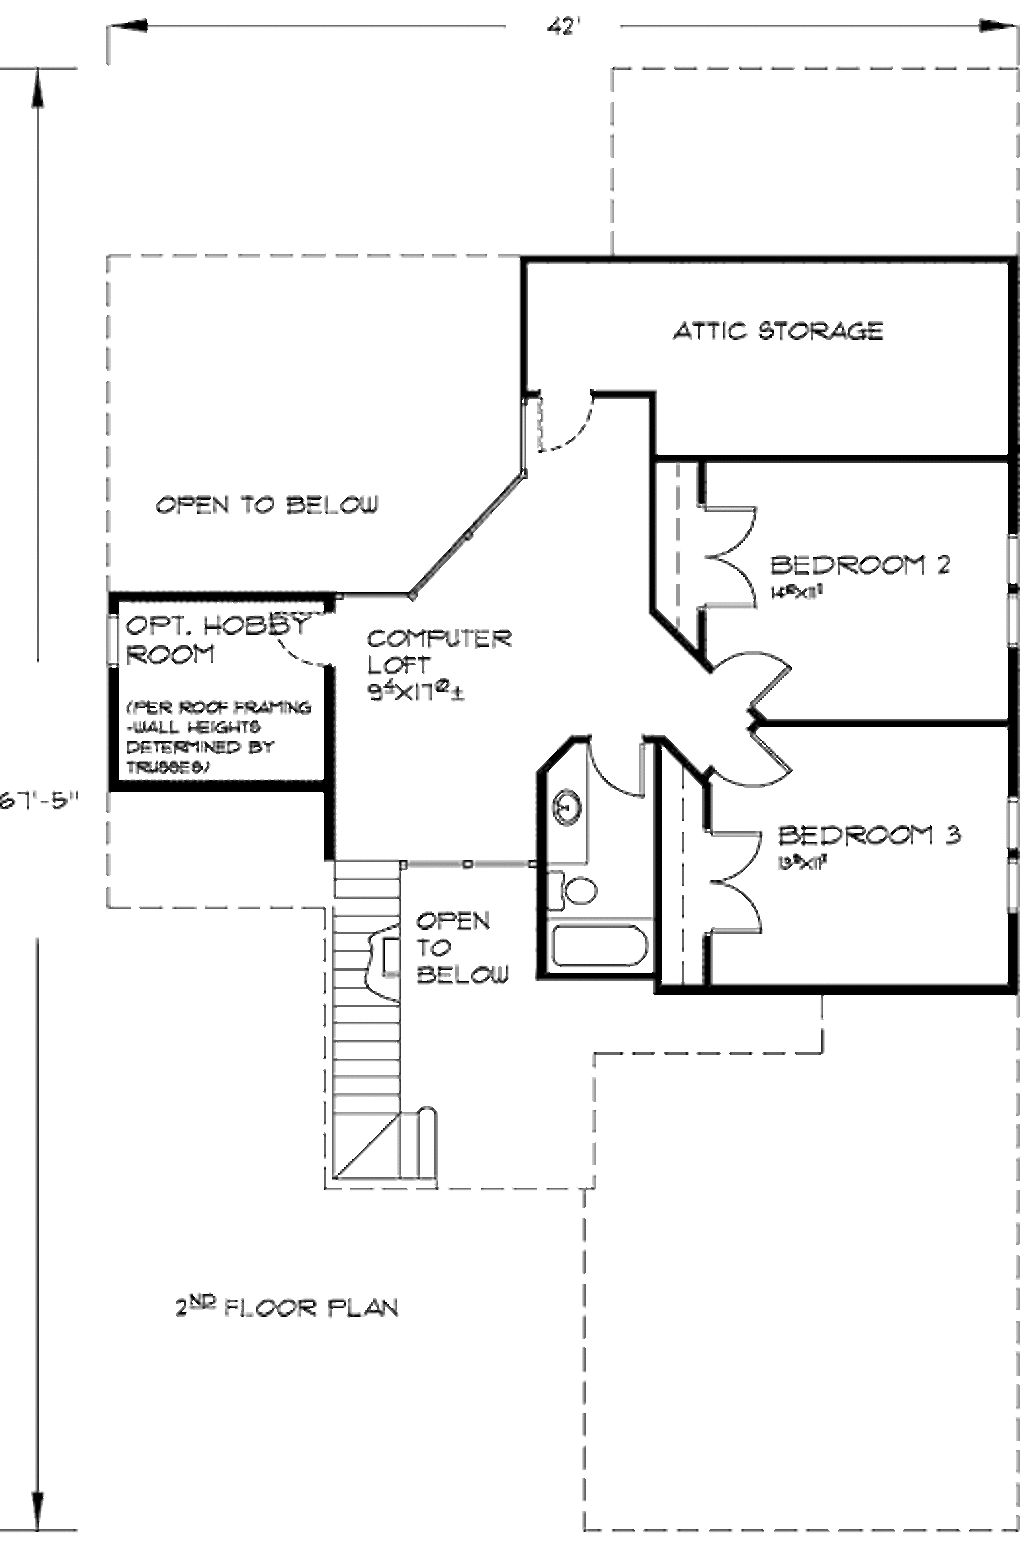door: (707, 733, 807, 816), (695, 509, 773, 614), (509, 373, 597, 458), (707, 631, 797, 715), (267, 594, 341, 693), (709, 841, 778, 936), (582, 731, 658, 805)
large_sink: (546, 870, 607, 909)
small_sink: (549, 782, 570, 831)
stairs: (299, 855, 458, 1182)
tub: (551, 926, 661, 975)
window: (995, 521, 1024, 639), (995, 787, 1024, 895), (102, 609, 134, 670)
